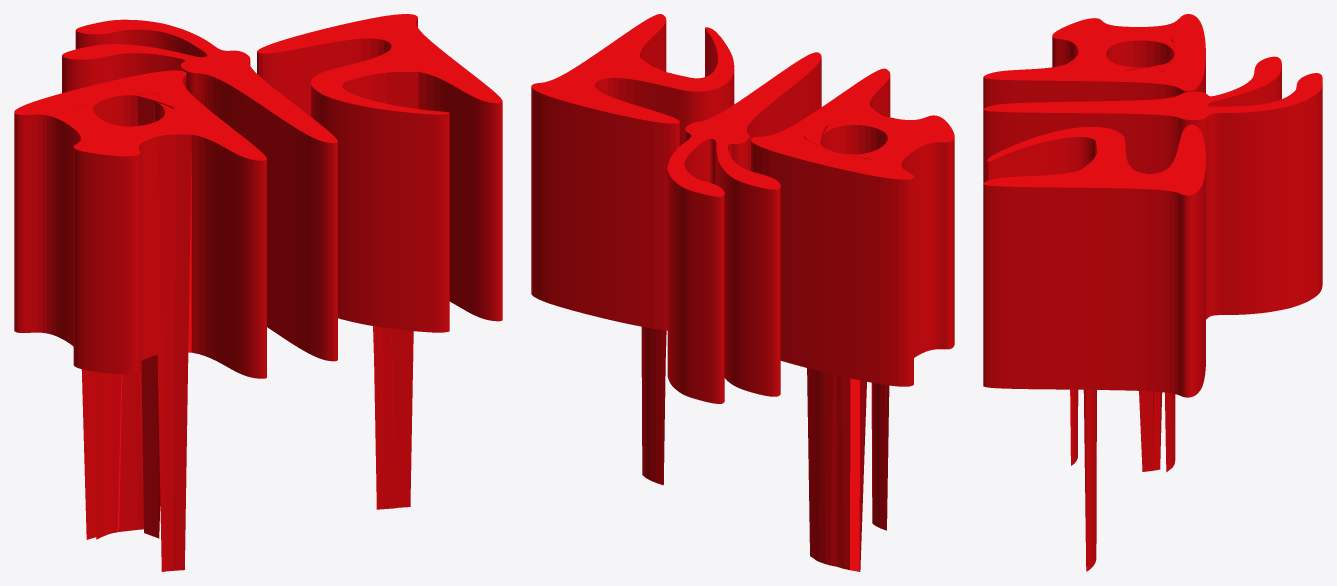
Rendered from death.fbx.
The picture shows the model from 3 angles, left to right: view 1: azimuth 30°, elevation 25°; view 2: azimuth 150°, elevation 25°; view 3: azimuth 270°, elevation 25°; orthographic projection. The views are drawn at different scales.
Visible parts, largest first — view 1: Text; view 2: Text; view 3: Text.
Part boxes in pixels (left/top/right/bottom): Text: left=14, top=14, right=502, bottom=571; Text: left=531, top=14, right=954, bottom=571; Text: left=983, top=14, right=1322, bottom=571.
Size of the model in its own units: 79.03 by 82 by 62.45.
